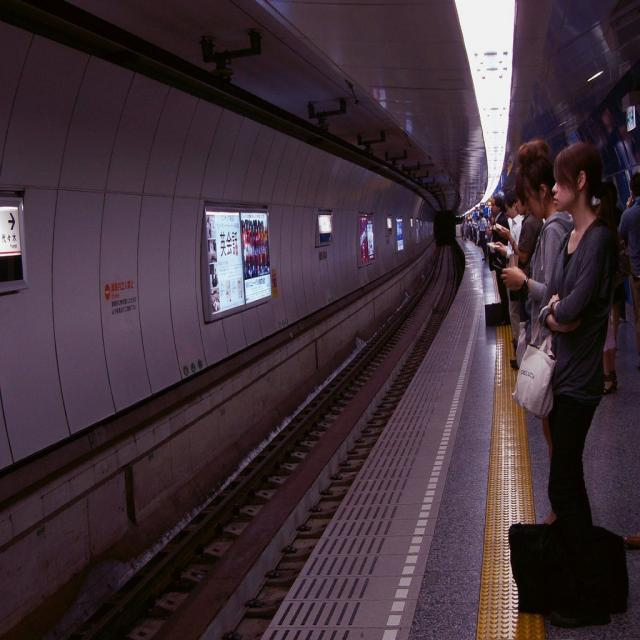body: (535, 141, 619, 531), (497, 138, 577, 468), (494, 186, 546, 373), (582, 180, 620, 398), (202, 208, 272, 310), (493, 189, 525, 352), (618, 169, 640, 373), (488, 195, 510, 272), (361, 214, 376, 259), (476, 210, 488, 262), (486, 212, 494, 261), (468, 217, 476, 244), (461, 218, 468, 242)
